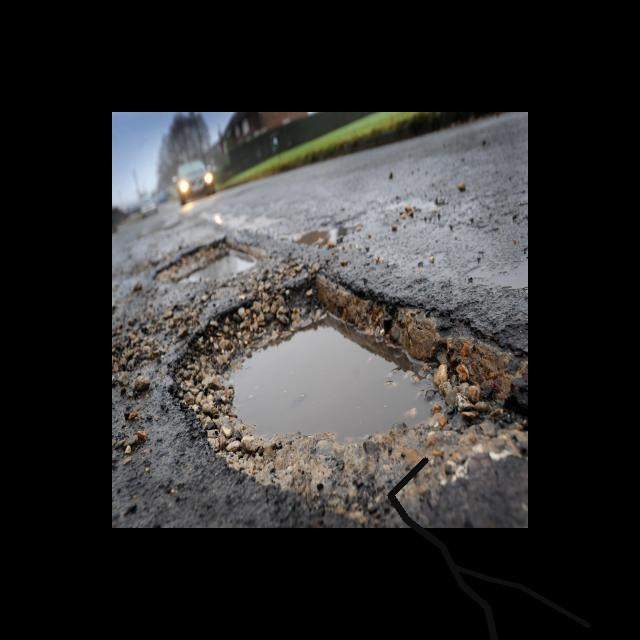road_crack: (380, 450, 522, 640)
